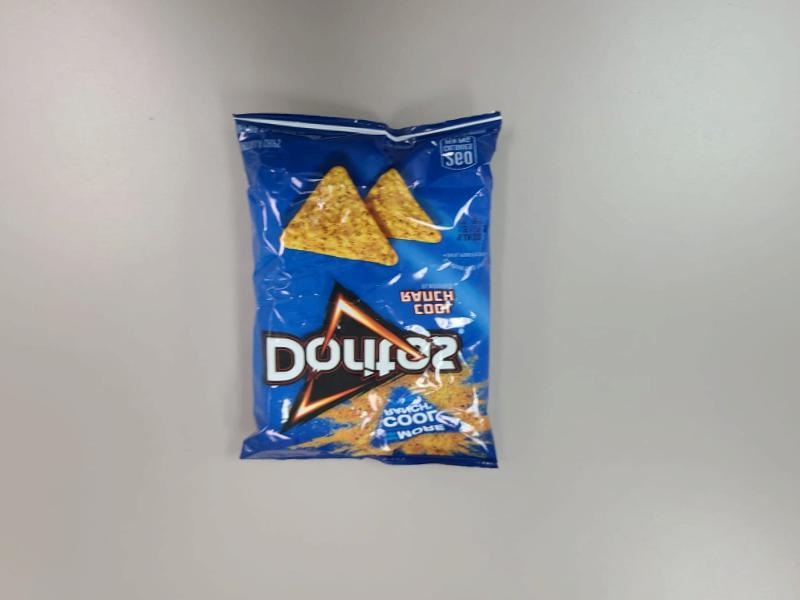doritos: (243, 89, 483, 472)
